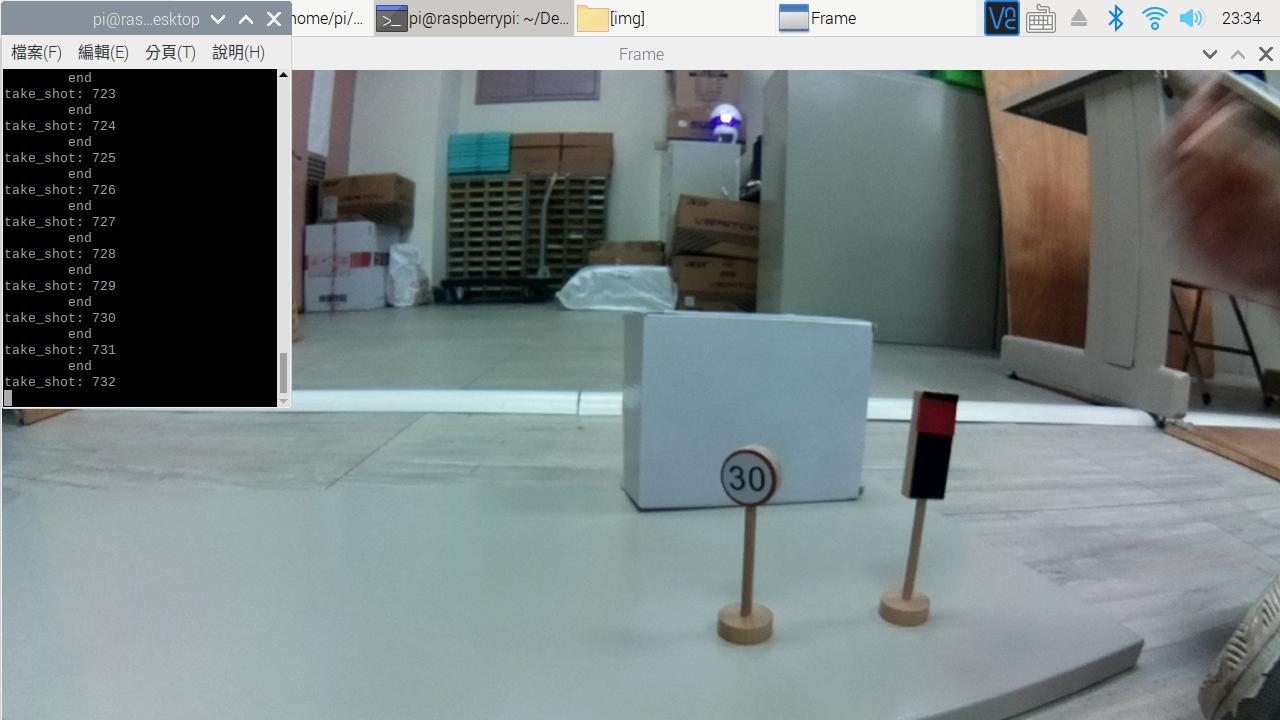Red: (909, 386, 957, 505)
Speed30: (722, 448, 782, 512)
